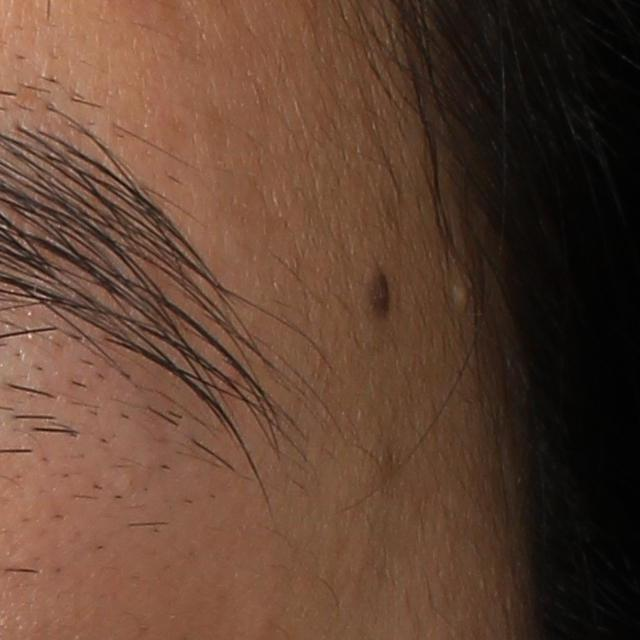nevus: (363, 268, 394, 316)
